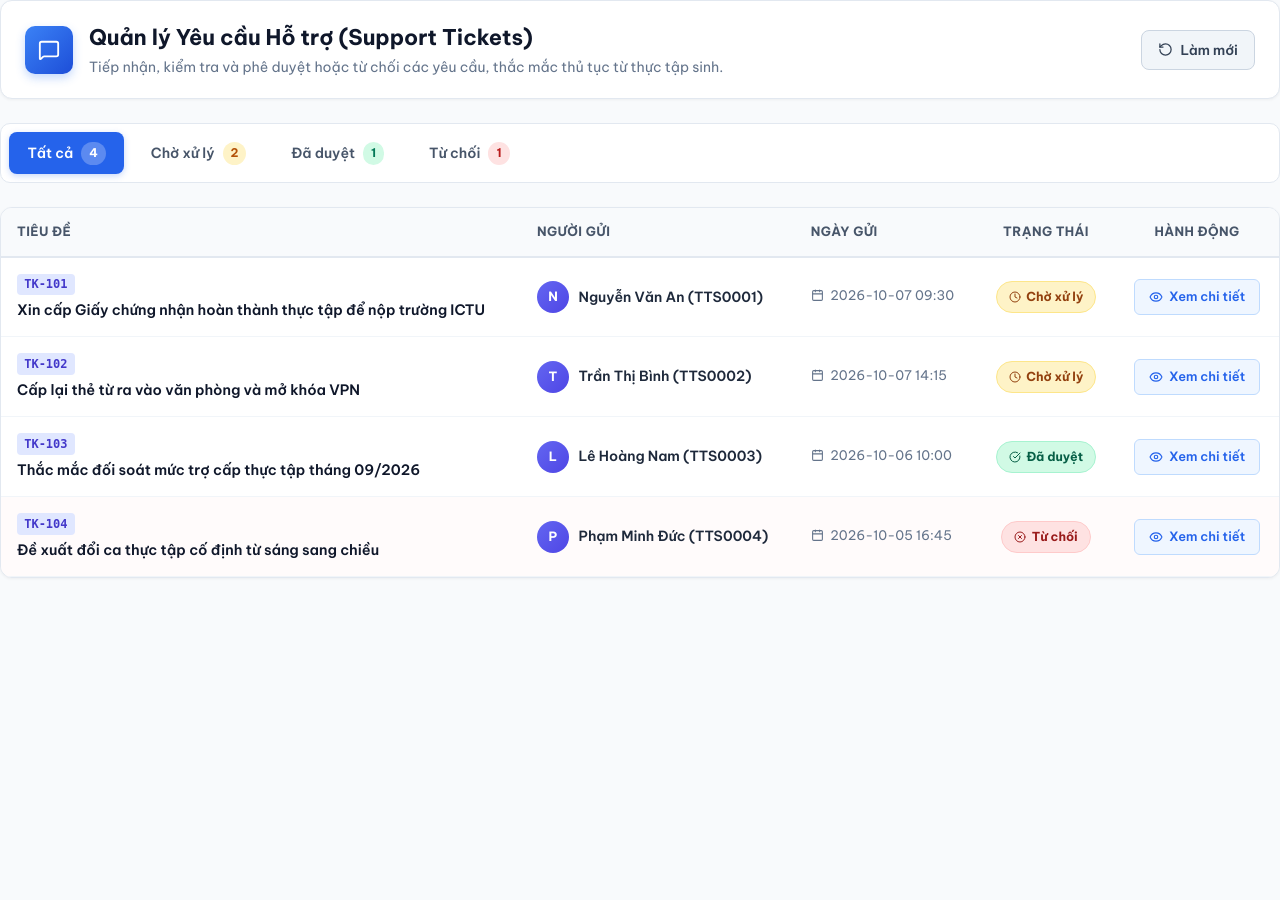
Test: SupportTicketManager Test Suite › 3. Đổi trạng thái, Toast và Cập nhật Badge trên bảng › khi duyệt yêu cầu thành công: gọi API, đóng modal, hiện toast và cập nhật badge Đã duyệt trên bảng
expect the element with test id "badge-pending-TK-101" reads "Chờ xử lý": met, box [1026, 289, 1083, 304]
Mở modal
Click the button "Xem chi tiết" in the row of "TK-101": click(1197, 297) [1134, 279, 1260, 315]
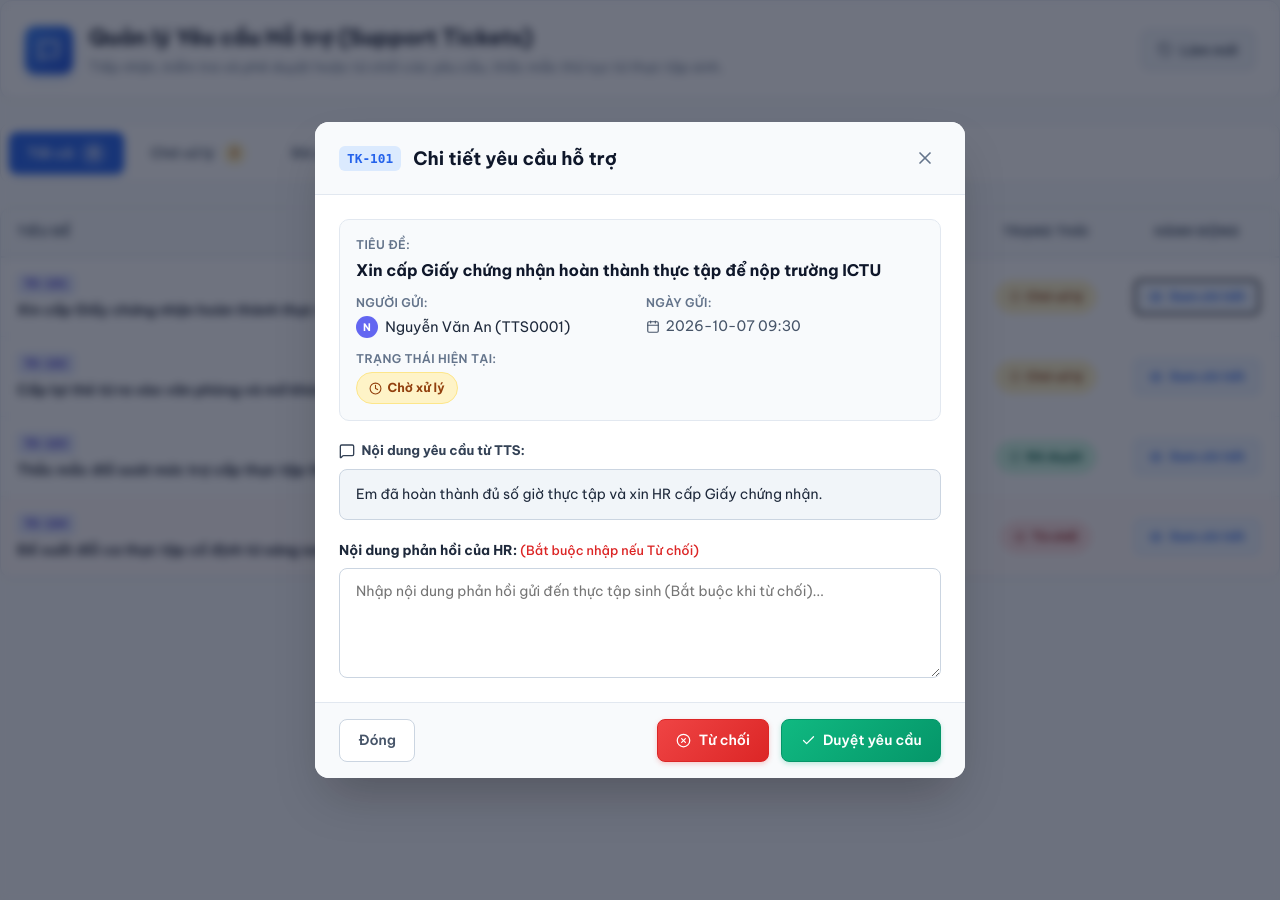
Nhập phản hồi và bấm "Duyệt yêu cầu"
In the text box labelled "Nội dung phản hồi của HR: (Bắt buộc nhập nếu Từ chối)": (640, 623) [339, 568, 941, 678], type "HR đã ký và đóng dấu giấy chứng nhận, mời em nhận tại phòng P201."
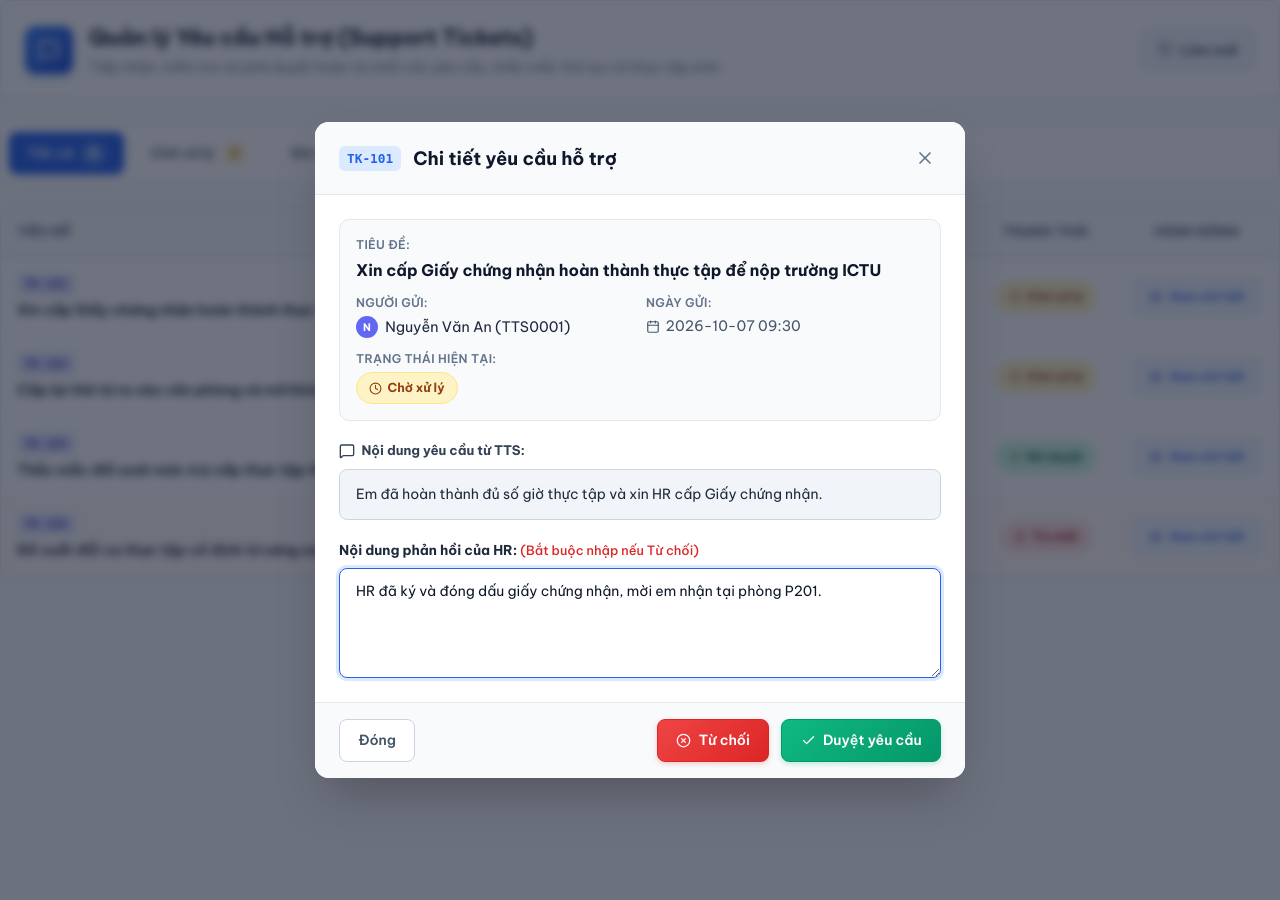
Click the button "Duyệt yêu cầu": click(861, 740) [781, 719, 941, 762]
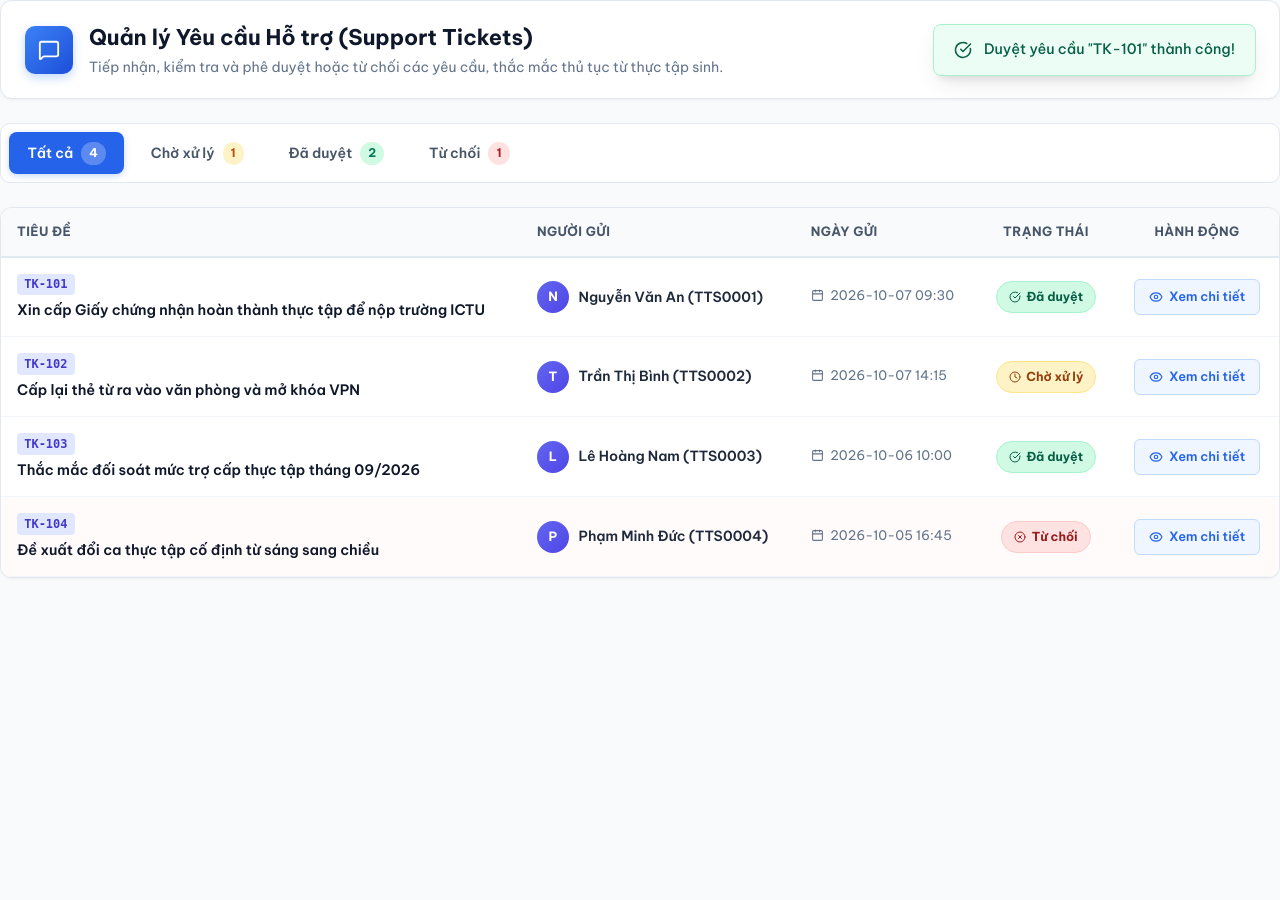
expect the dialog is gone: met
expect the message named "thông báo thành công" shows "Duyệt yêu cầu \"TK-101\" thành công": met, box [984, 40, 1235, 58]
expect the element with test id "badge-approved-TK-101" is shown: met, box [996, 281, 1096, 313]
